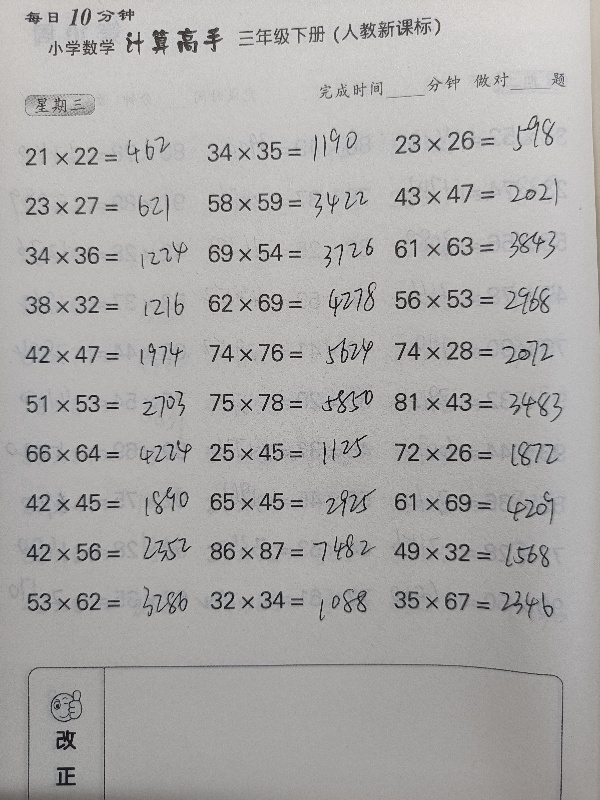equation: (198, 126, 378, 172), (385, 579, 565, 621), (387, 333, 567, 375), (199, 184, 379, 226), (16, 134, 196, 173), (202, 483, 382, 518), (386, 281, 566, 316), (385, 229, 565, 264), (385, 177, 565, 212), (386, 124, 566, 159), (19, 584, 199, 618), (202, 583, 382, 617), (18, 535, 198, 569), (385, 534, 565, 568), (202, 533, 382, 567), (385, 485, 565, 519), (18, 436, 198, 470), (385, 435, 565, 469), (19, 387, 199, 421), (202, 386, 382, 420), (386, 385, 566, 419), (201, 336, 381, 370), (18, 287, 198, 321), (200, 286, 380, 320), (18, 239, 198, 273), (199, 236, 379, 270), (17, 189, 197, 223), (18, 486, 198, 519), (202, 436, 382, 469), (18, 337, 198, 370)
